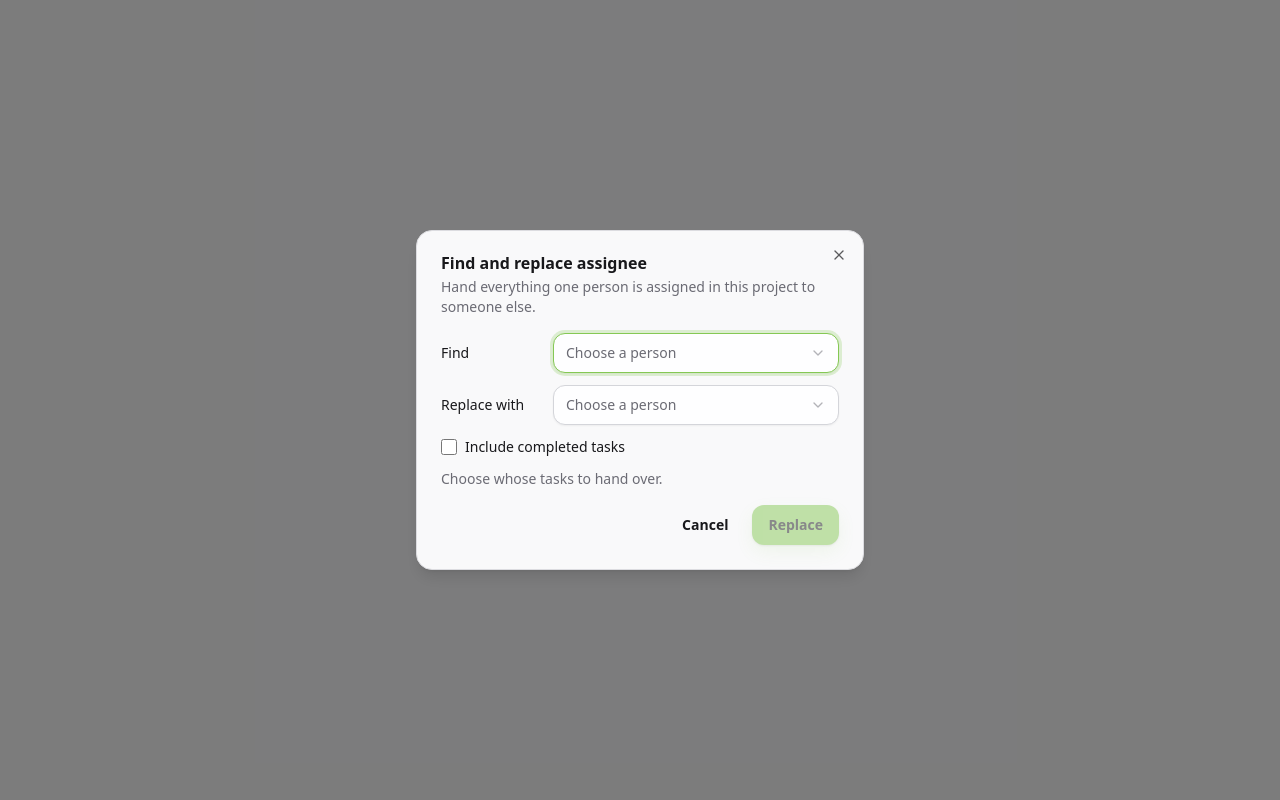
Scenario: ReplaceAssigneeDialog › says so when the tasks cannot be counted, rather than counting forever
The image size is (1280, 800).
Click the dropdown named "Find" at (621, 352), box [553,333,839,373]
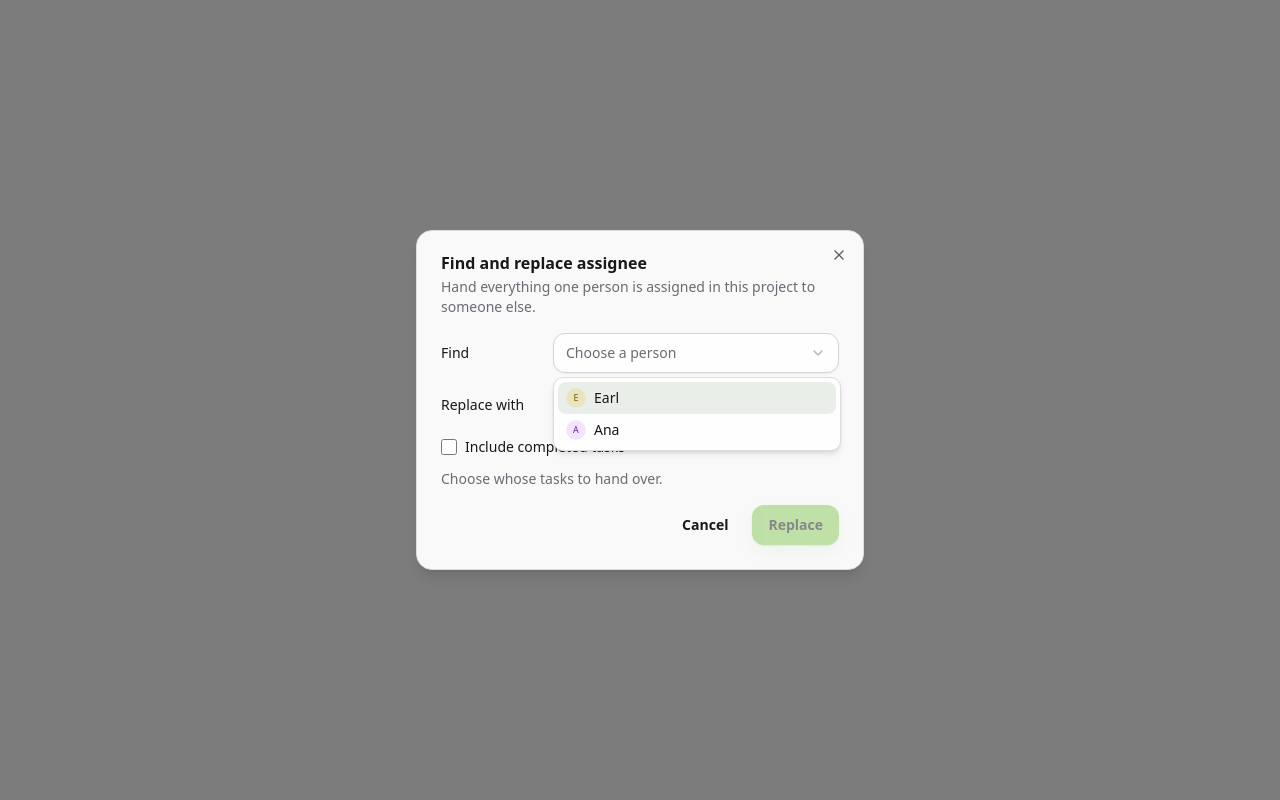
Click the option "E Earl" at (576, 398), box [558,382,836,414]
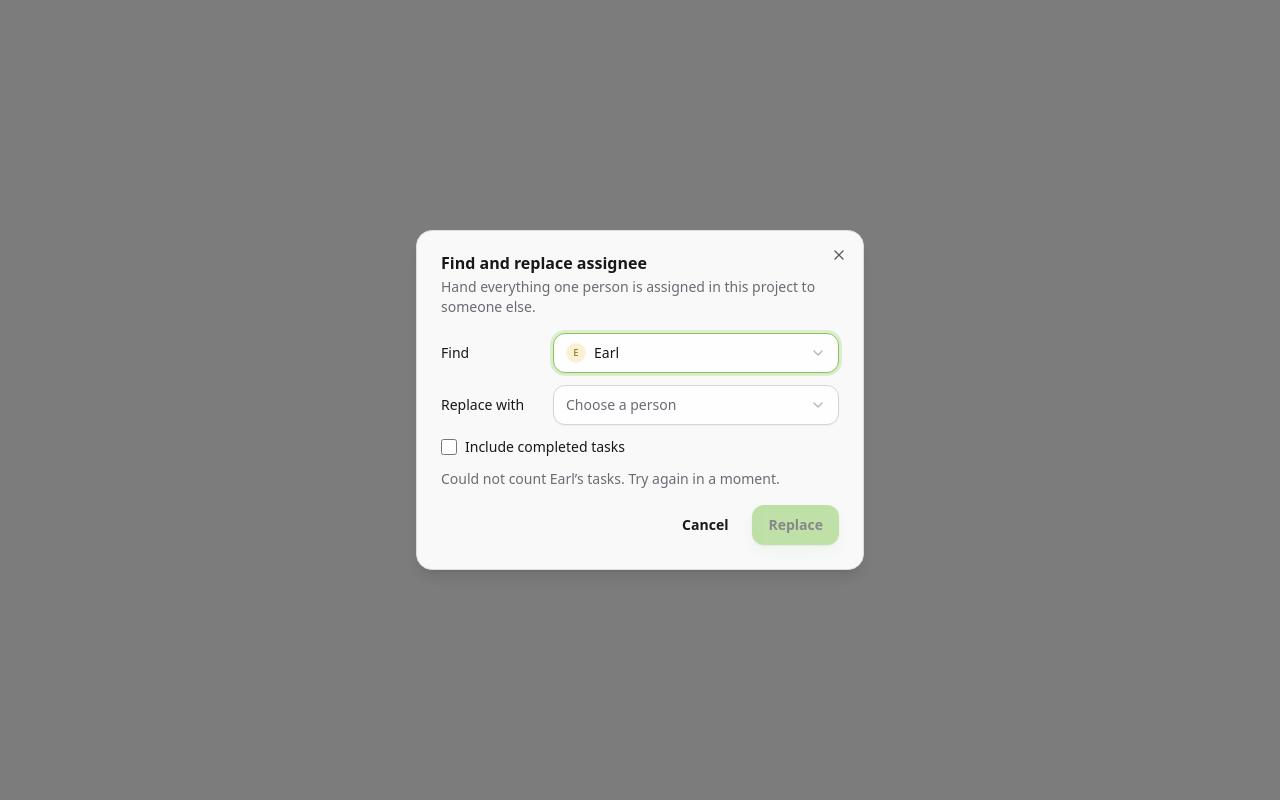
Expected: the button "Replace" is disabled, [752,505,839,545]
Expected: the text "Could not count Earl’s tasks. Try again in a moment." is shown, [441,469,839,489]
